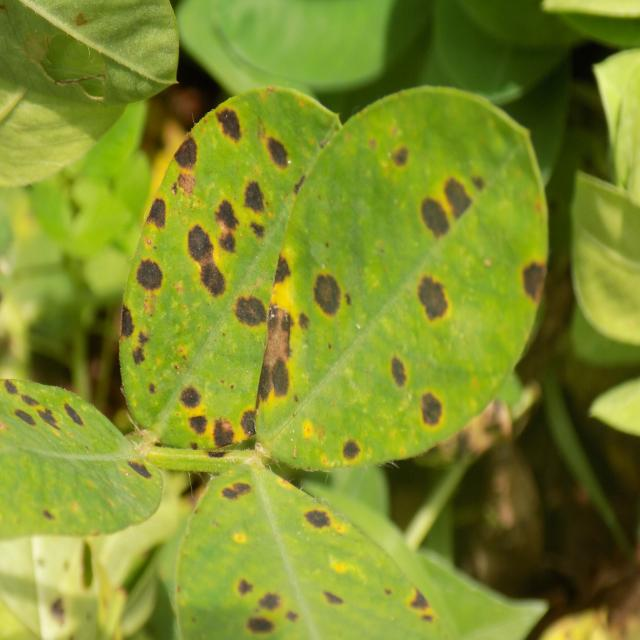Ground nut_tikka leaf spot: (248, 86, 546, 462), (121, 88, 375, 453)
